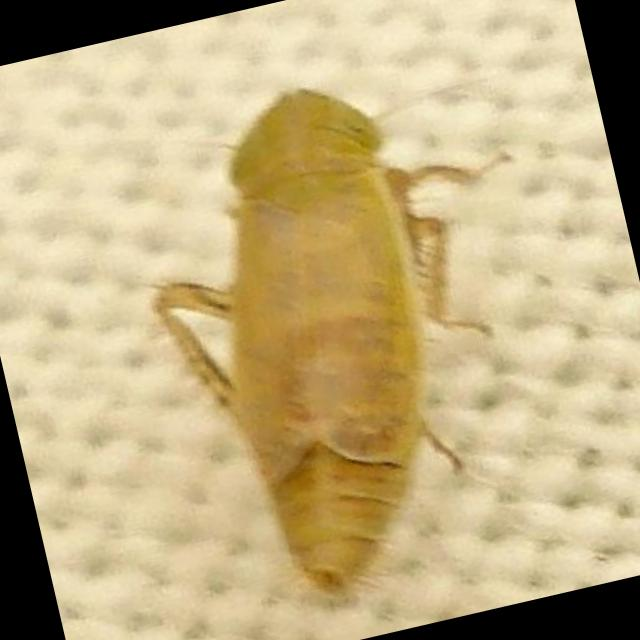green-leafhopper: (133, 67, 501, 610)
